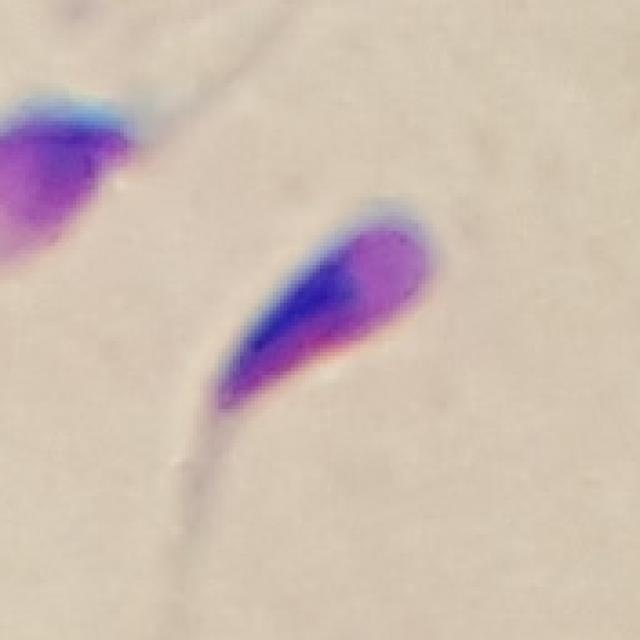abnormal sperm: (177, 217, 438, 506)
